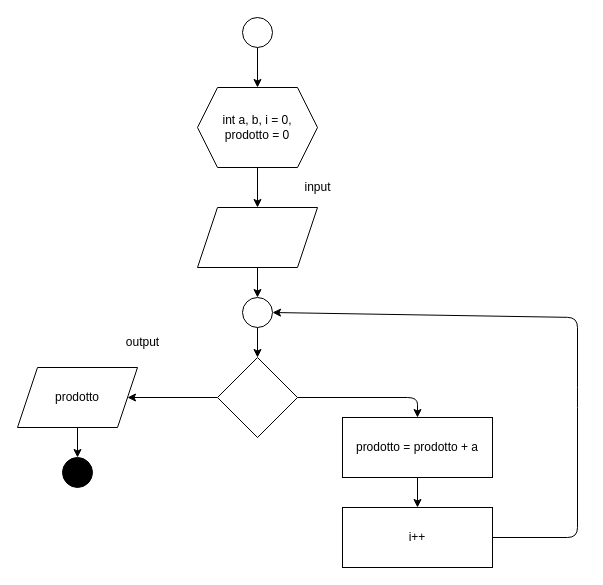
Some shapes in this 603 by 585 pixel diagram are drawn without their labels. Here are the shapes that lost their labels. From the top down, the box of each, then its label:
(196, 206, 318, 268): a, b
(216, 356, 298, 438): i < b
